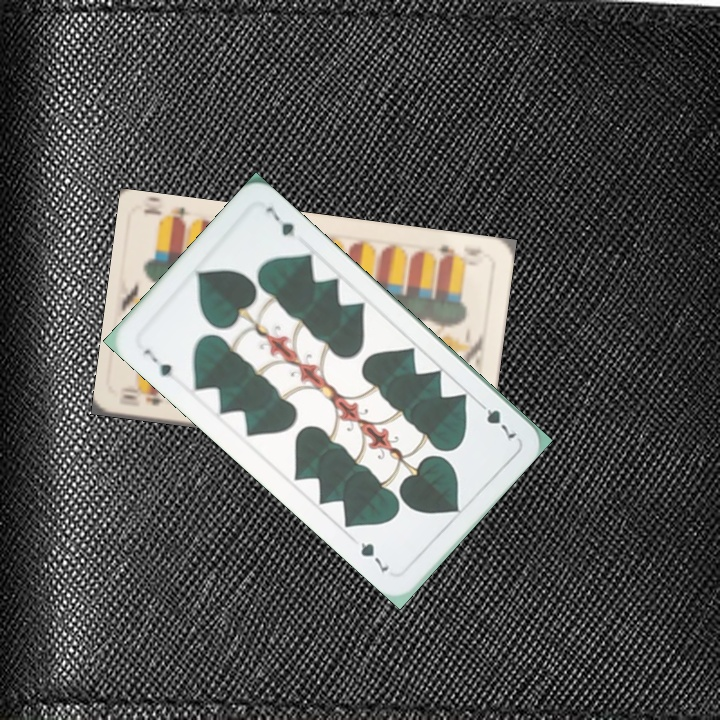E10: (119, 383, 164, 408), (435, 240, 468, 265)
G7: (473, 396, 519, 443), (139, 344, 179, 385)
